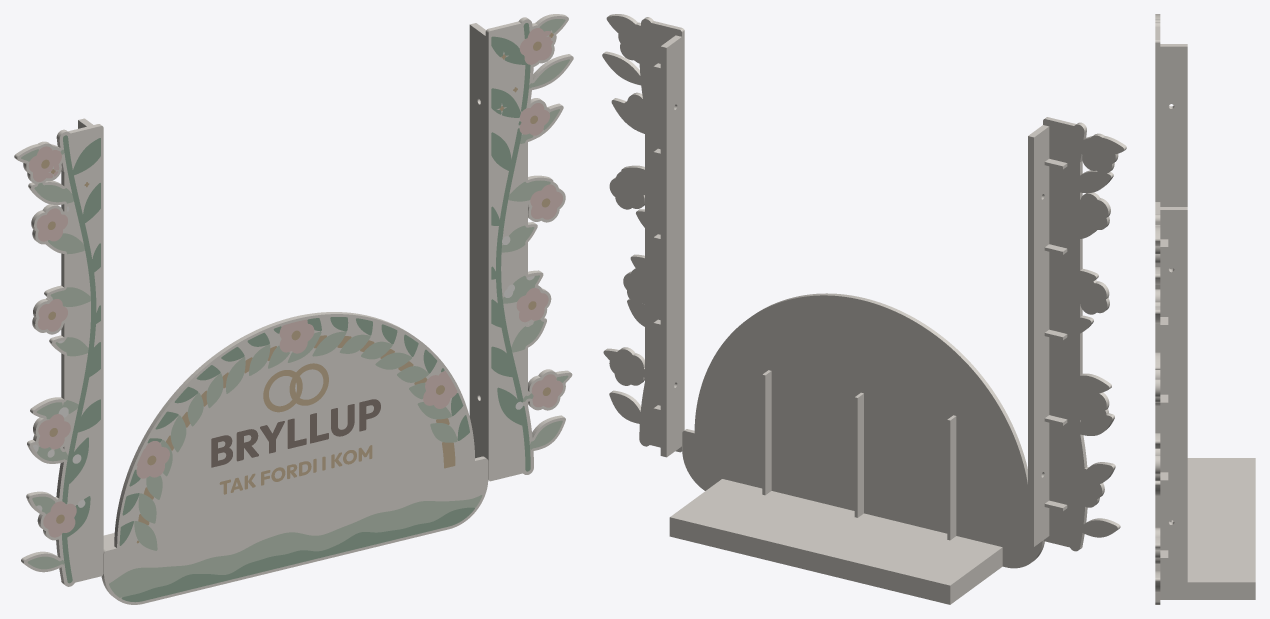
File: parts.glb
3 renders of one model, left to right at view 1: azimuth 30°, elevation 25°; view 2: azimuth 150°, elevation 25°; view 3: azimuth 270°, elevation 25°, orthographic. The views are drawn at different scales.
Parts seen in each view (by area): view 1: topper__base, wing_right__base, wing_left__base, topper__sage, topper__leaf, wing_right__leaf, wing_left__leaf, topper__gold, wing_left__blush, wing_right__blush, wing_right__sage, wing_left__sage (+2 smaller); view 2: topper__base, wing_left__base, wing_right__base; view 3: wing_right__base, topper__base, wing_left__base.
Boxes of the visible parts, left/top/right/bottom form: topper__base: left=101, top=312, right=488, bottom=604; wing_right__base: left=469, top=14, right=573, bottom=481; wing_left__base: left=14, top=118, right=103, bottom=586; topper__sage: left=109, top=331, right=482, bottom=597; topper__leaf: left=119, top=317, right=474, bottom=602; wing_right__leaf: left=491, top=23, right=530, bottom=471; wing_left__leaf: left=62, top=135, right=100, bottom=583; topper__gold: left=136, top=330, right=455, bottom=543; wing_left__blush: left=28, top=146, right=76, bottom=537; wing_right__blush: left=516, top=28, right=563, bottom=407; wing_right__sage: left=501, top=19, right=569, bottom=449; wing_left__sage: left=21, top=149, right=90, bottom=569; topper__base: left=669, top=293, right=1044, bottom=604; wing_left__base: left=1028, top=117, right=1126, bottom=551; wing_right__base: left=602, top=14, right=684, bottom=457; wing_right__base: left=1155, top=202, right=1187, bottom=604; topper__base: left=1160, top=458, right=1255, bottom=599; wing_left__base: left=1155, top=14, right=1187, bottom=269.
Bounding box in the file's own units: 339 × 286 × 62.
